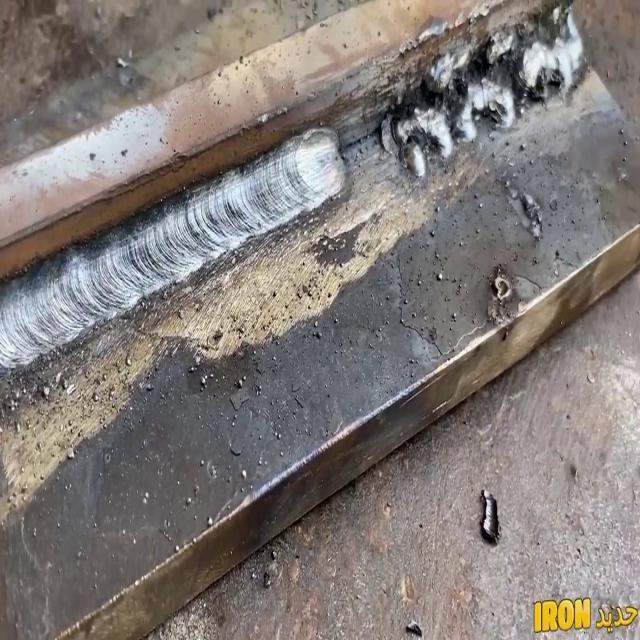Bad Weld: (378, 0, 588, 177)
Good Weld: (0, 128, 345, 374)
